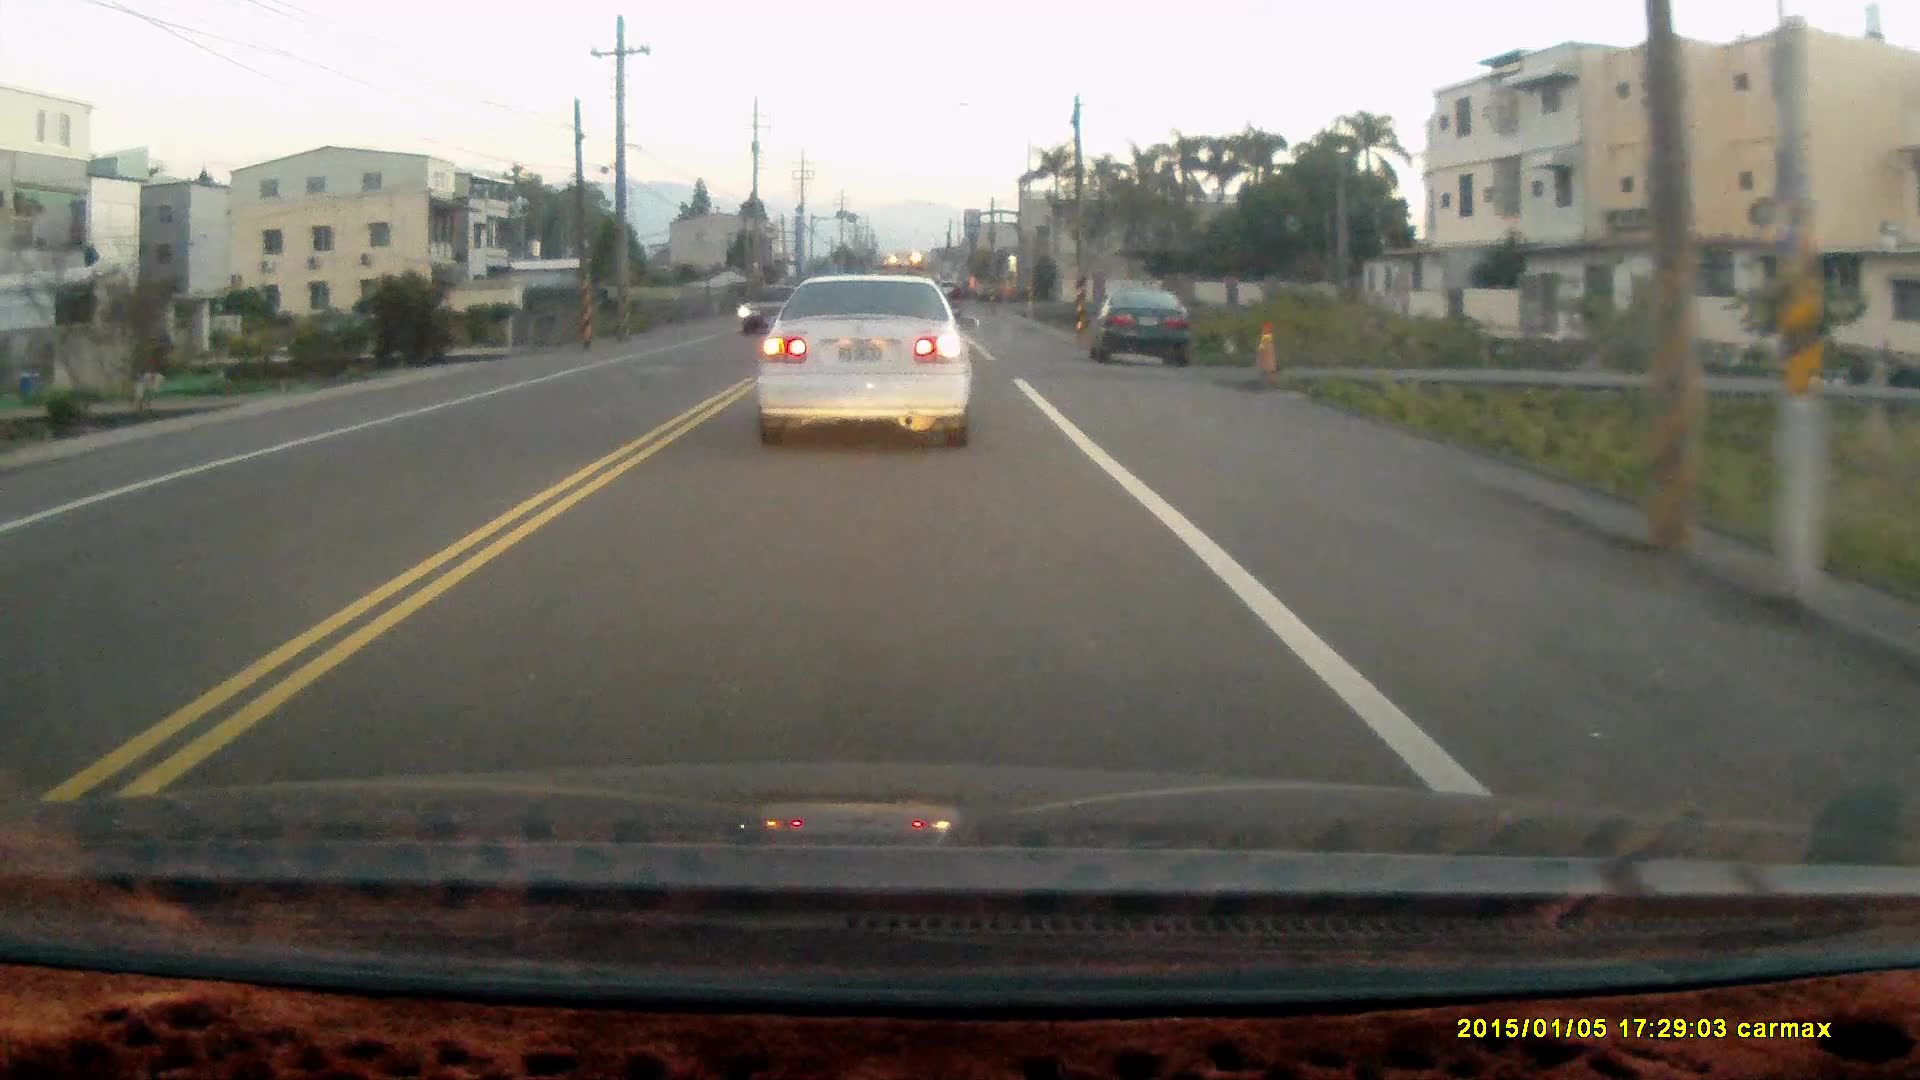vehicle: (754, 274, 972, 456), (1091, 290, 1191, 369), (738, 285, 800, 339)
